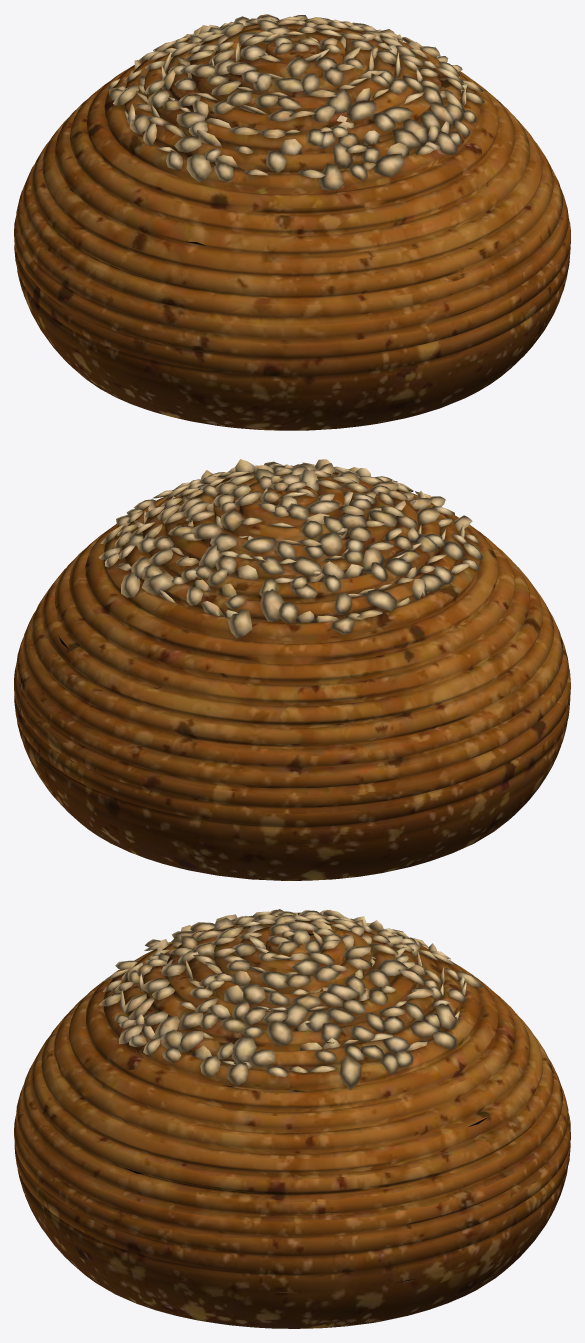
File: wholewheat--oat-flake.glb
The picture shows the model from 3 angles, top to bottom: view 1: azimuth 30°, elevation 25°; view 2: azimuth 150°, elevation 25°; view 3: azimuth 270°, elevation 25°; orthographic projection.
Visible parts, largest first — view 1: wholewheat_oat-flake; view 2: wholewheat_oat-flake; view 3: wholewheat_oat-flake.
Boxes of the visible parts, x1,y1,x2,y2 form: wholewheat_oat-flake: (14,14,570,430); wholewheat_oat-flake: (14,459,570,880); wholewheat_oat-flake: (14,909,570,1328).
Bounding box in the file's own units: 0.9999 × 0.5817 × 0.998.
1 material, 1 textured.
